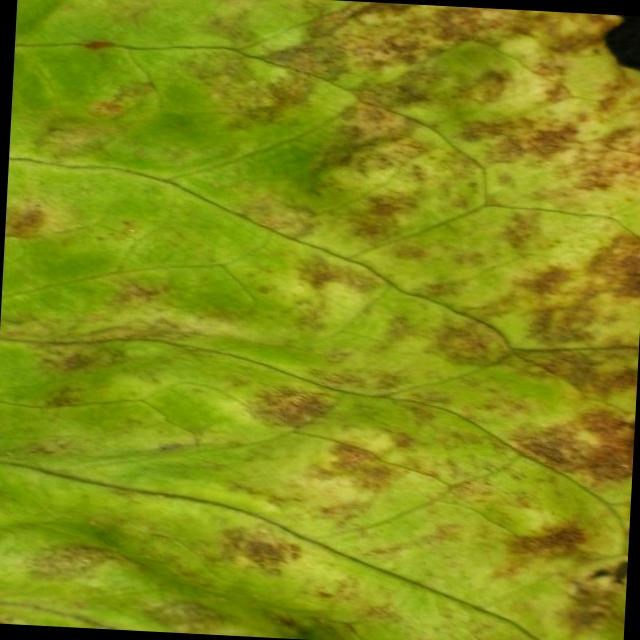Septoria_Blight_on_lettuce: (13, 37, 640, 640)
